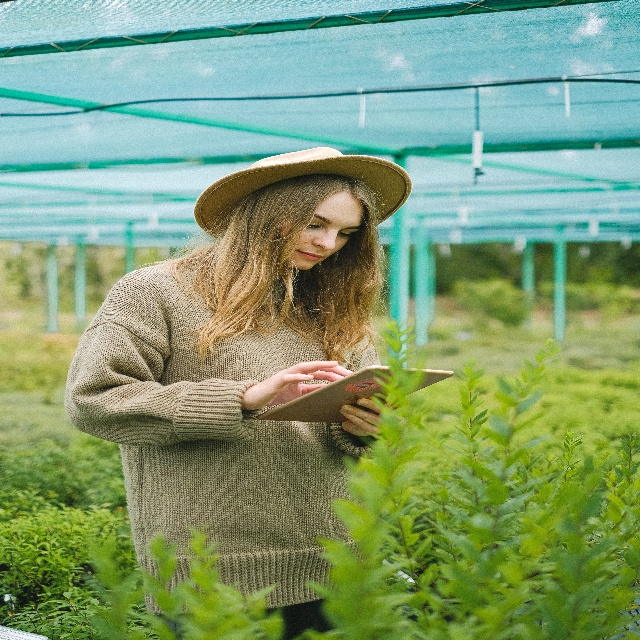Sin_guantes: (252, 358, 356, 415)
